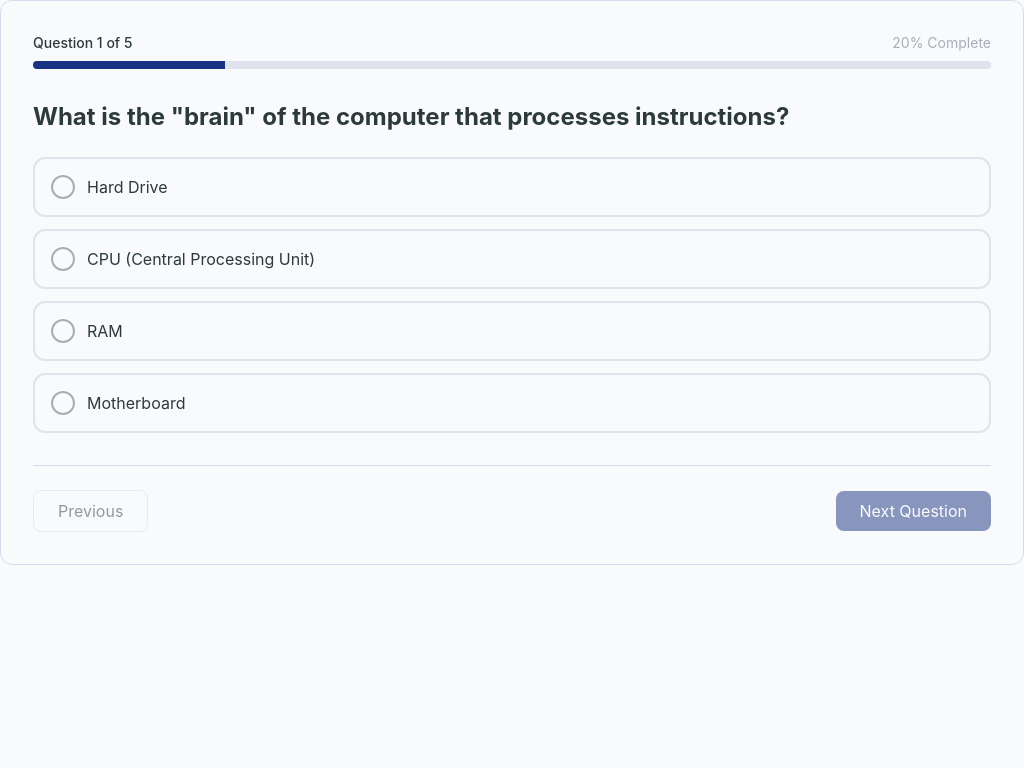
Test: QuizComponent › navigation › should navigate to previous question
This screenshot has width=1024, height=768.
Go to question 2
Click the button "CPU (Central Processing Unit)".
click(201, 259)  # box left=33, top=229, right=991, bottom=289
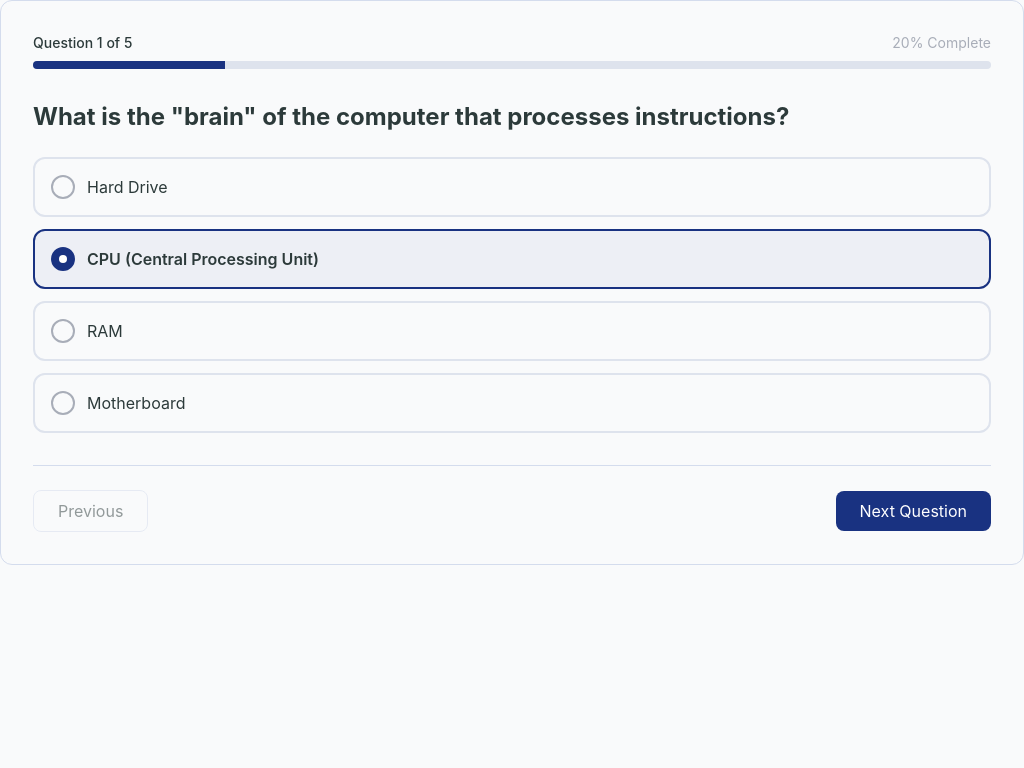
Click the button "Next Question".
click(913, 511)  # box left=836, top=491, right=991, bottom=531
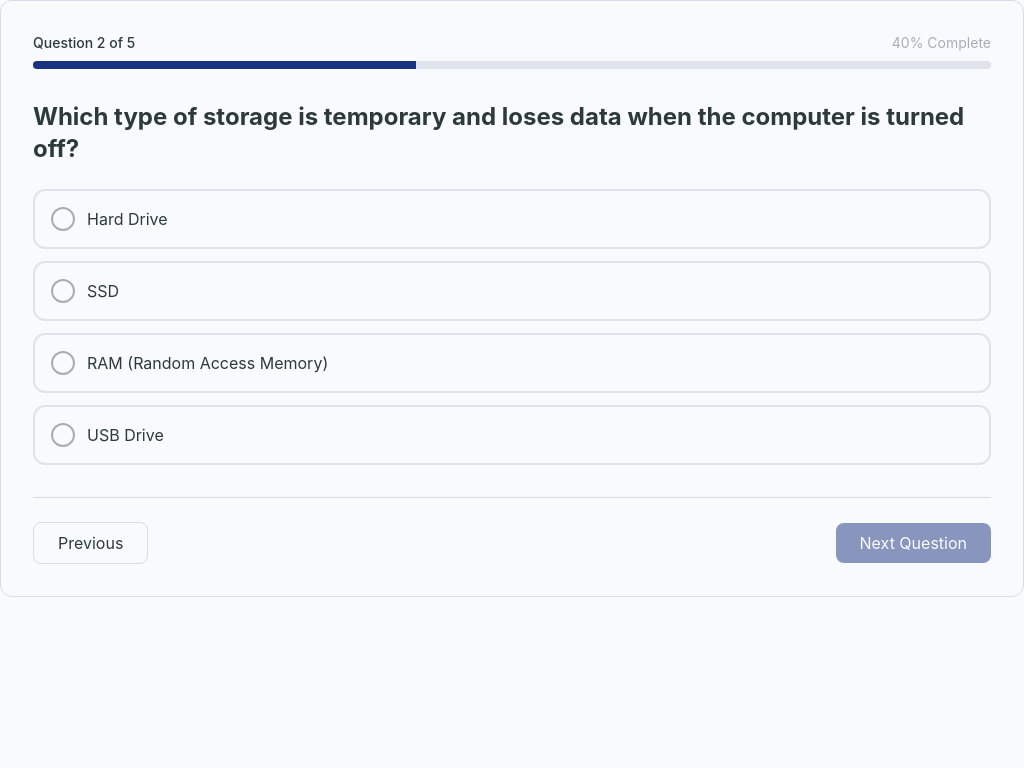
Go back to question 1
Click the button "Previous".
click(91, 543)  # box left=33, top=522, right=148, bottom=564
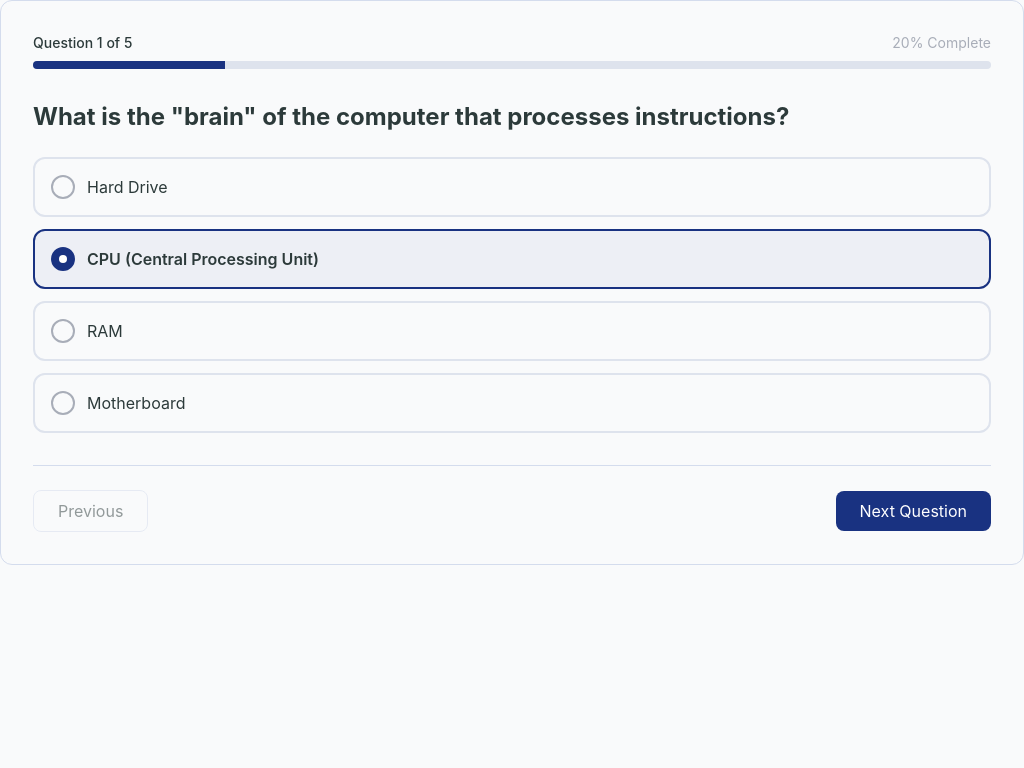
Expected: the heading "What is the \"brain\" of the computer" is shown, left=33, top=102, right=789, bottom=131
